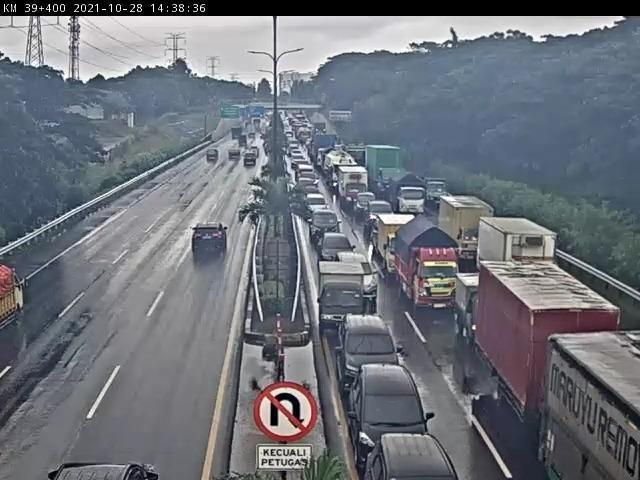car: (353, 361, 434, 445), (332, 306, 406, 397), (361, 433, 466, 480), (47, 457, 164, 480), (334, 252, 380, 296), (192, 219, 231, 253), (317, 236, 359, 263), (308, 210, 343, 242), (302, 192, 332, 218), (296, 178, 324, 197)
truck: (484, 266, 626, 429), (545, 336, 640, 480), (317, 265, 373, 337), (439, 197, 497, 266), (484, 217, 558, 269), (1, 256, 39, 332), (377, 214, 418, 278), (454, 268, 486, 342), (336, 166, 371, 205), (394, 175, 424, 216), (422, 178, 448, 208)
